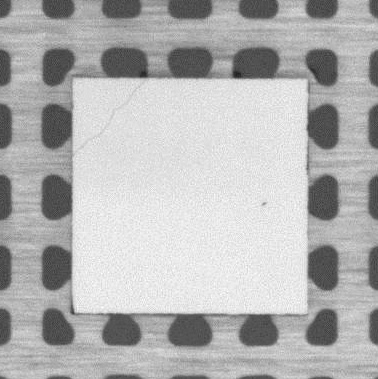DIE_CRACK: (73, 79, 149, 159)
